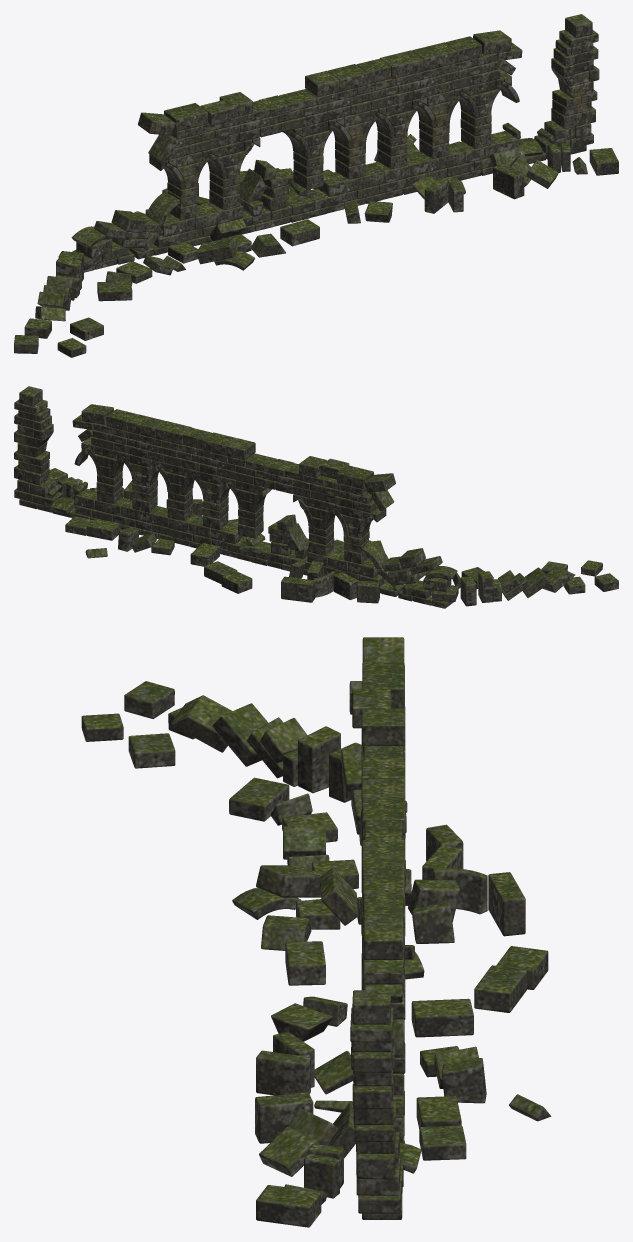
3 views of the same model, one above another, from view 1: azimuth 30°, elevation 25°; view 2: azimuth 150°, elevation 25°; view 3: azimuth 270°, elevation 25° (orthographic). The views are drawn at different scales.
Visible parts, largest first — view 1: abbey_wall_Baked; view 2: abbey_wall_Baked; view 3: abbey_wall_Baked.
Boxes of the visible parts, <box> form: abbey_wall_Baked: <box>14,14,618,357</box>; abbey_wall_Baked: <box>14,386,618,608</box>; abbey_wall_Baked: <box>81,637,551,1227</box>.
Size of the model in its own units: 77.15 by 15.59 by 28.84.
1 material, 1 textured.
